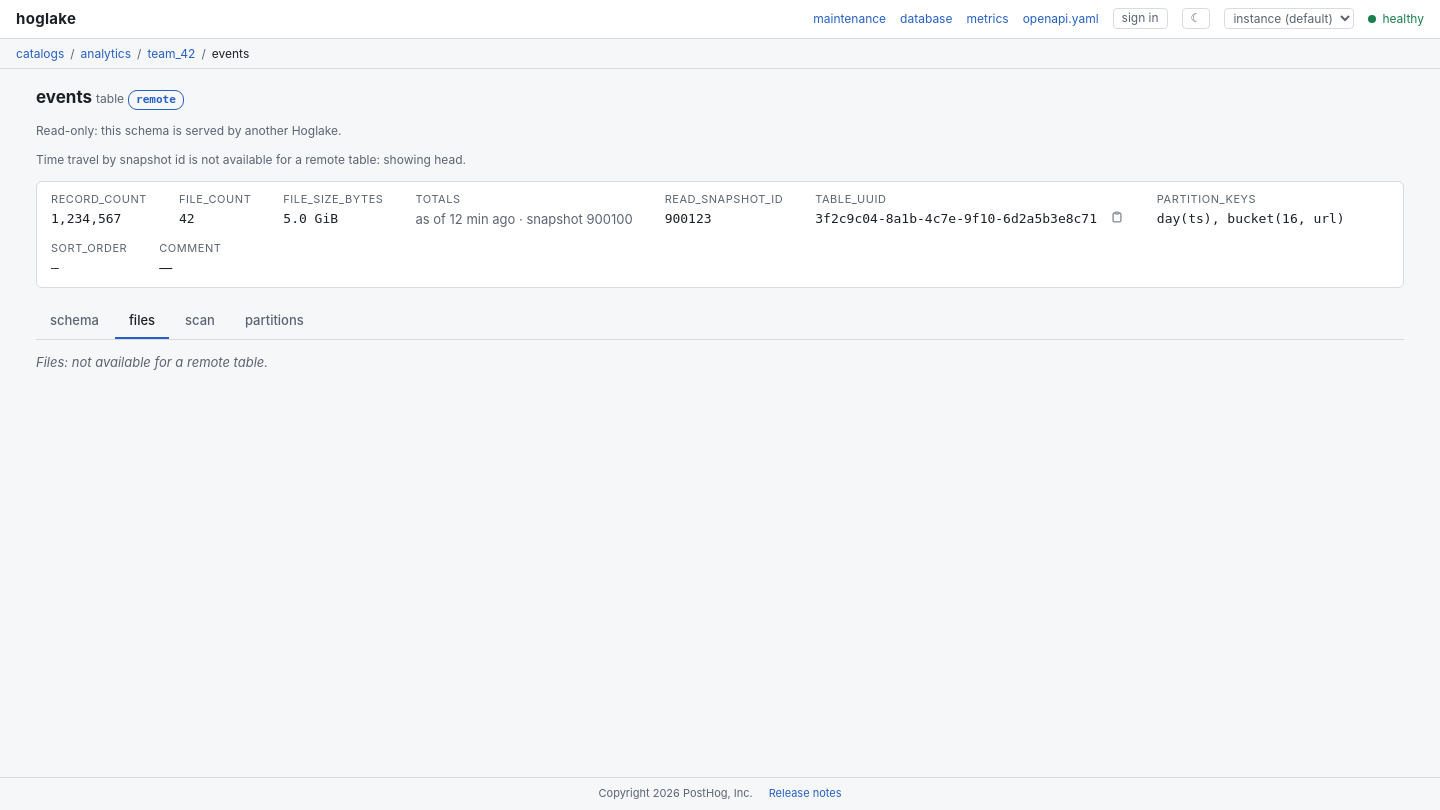
Test: remote tables on the table page › reads at head, ignores ?snapshot= and requests no unserved route
Expected: the text "Files: not available for a remote table." is shown, [36,354,268,370]
Expected: the text "Read-only: this schema is served by another Hoglake." is shown, [36,123,342,138]
What coordinates should you click on to do the following:
click the tab "partitions"
I would click on:
 (274, 322)
Its box is [231,304,318,339].
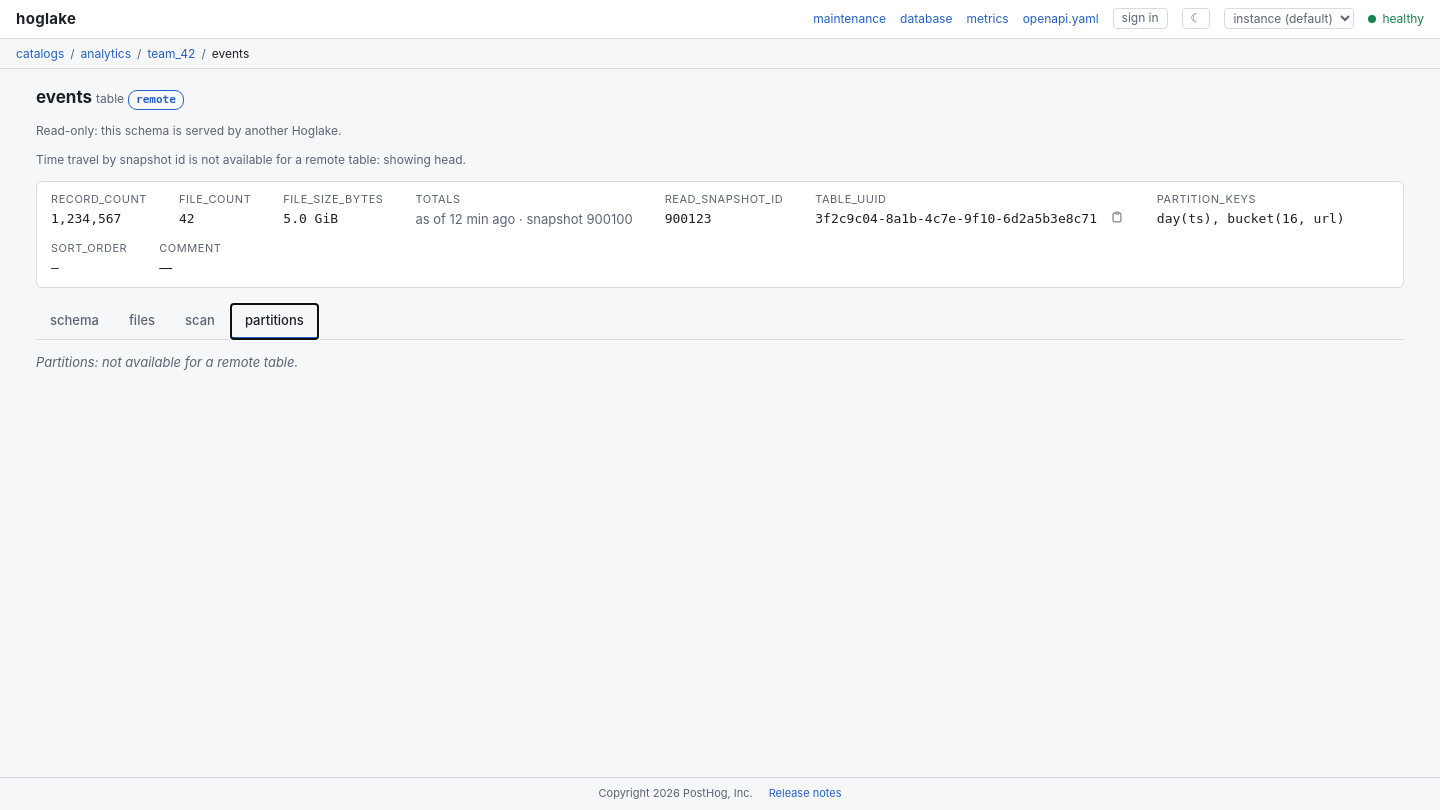
Now the text "Partitions: not available for a remote table." is shown, box [36,354,298,370]
What coordinates should you click on to do the following:
click the tab "scan"
I would click on:
 (200, 322)
Its box is [171,304,229,339].
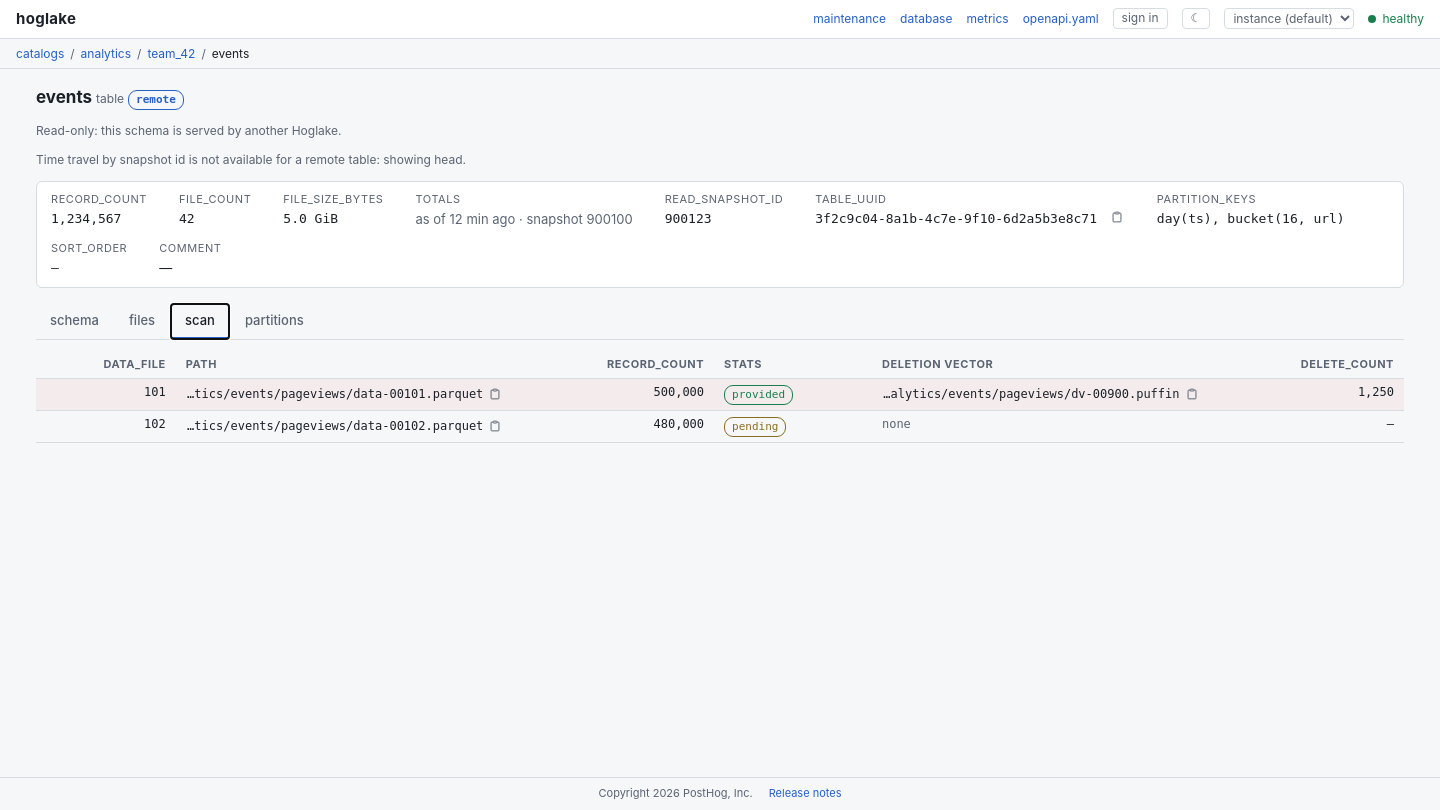
Now the text "s3://hog-lake/analytics/events/pageviews/dv-00900.puffin" is shown, box [882,386,1180,403]
